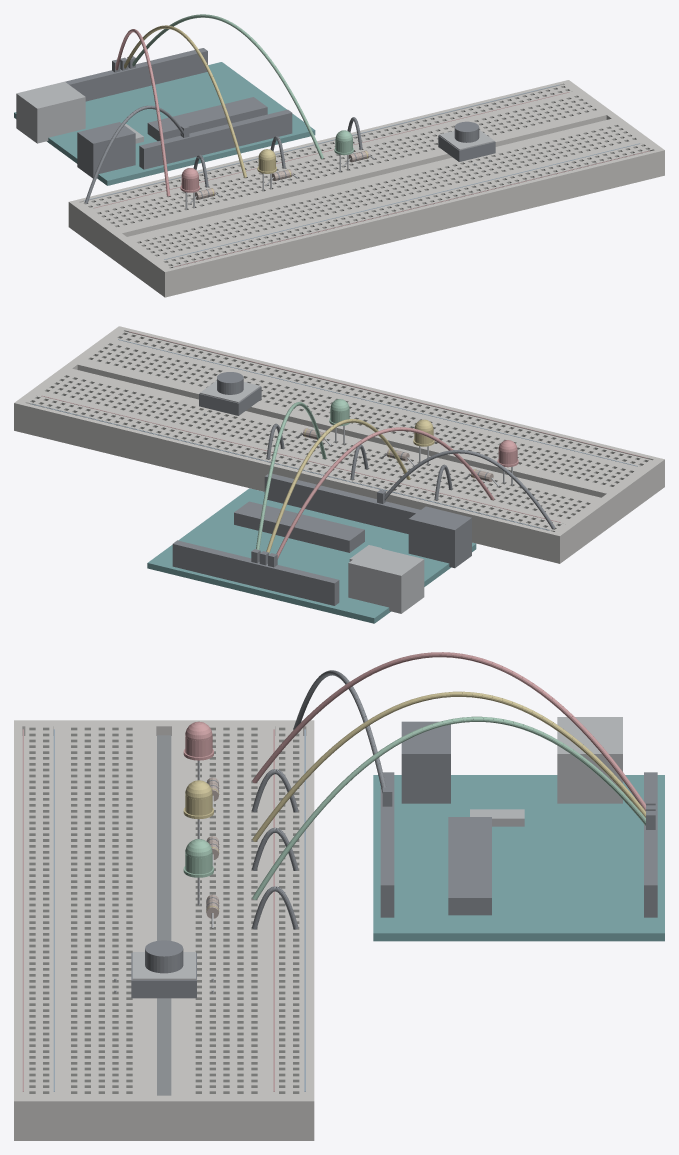
File: step-16.glb
3 renders of one model, top to bottom at view 1: azimuth 30°, elevation 25°; view 2: azimuth 150°, elevation 25°; view 3: azimuth 270°, elevation 25°, orthographic. The views are drawn at different scales.
Parts seen in each view (by area): view 1: breadboard__mesh, uno__mesh, button__mesh, wire_green_signal__mesh, wire_yellow_signal__mesh, wire_red_signal__mesh, wire_ground__mesh, led_red__mesh, led_green__mesh, led_yellow__mesh; view 2: breadboard__mesh, uno__mesh, button__mesh, wire_red_signal__mesh, wire_yellow_signal__mesh, wire_ground__mesh, wire_green_signal__mesh, led_red__mesh, led_green__mesh, led_yellow__mesh; view 3: breadboard__mesh, uno__mesh, button__mesh, wire_green_signal__mesh, wire_red_signal__mesh, wire_yellow_signal__mesh, wire_ground__mesh, led_green__mesh, led_yellow__mesh, led_red__mesh.
Boxes of the visible parts, bbox=[...] form: breadboard__mesh: bbox=[68, 80, 664, 297]; uno__mesh: bbox=[14, 48, 315, 185]; button__mesh: bbox=[438, 121, 495, 165]; wire_green_signal__mesh: bbox=[127, 14, 323, 158]; wire_yellow_signal__mesh: bbox=[120, 25, 246, 177]; wire_red_signal__mesh: bbox=[112, 29, 170, 196]; wire_ground__mesh: bbox=[84, 105, 189, 203]; led_red__mesh: bbox=[180, 168, 199, 209]; led_green__mesh: bbox=[334, 130, 353, 171]; led_yellow__mesh: bbox=[257, 149, 276, 190]; breadboard__mesh: bbox=[14, 326, 664, 563]; uno__mesh: bbox=[147, 473, 476, 623]; button__mesh: bbox=[199, 372, 261, 419]; wire_red_signal__mesh: bbox=[268, 427, 494, 567]; wire_yellow_signal__mesh: bbox=[259, 419, 410, 565]; wire_ground__mesh: bbox=[377, 450, 555, 529]; wire_green_signal__mesh: bbox=[251, 402, 326, 563]; led_red__mesh: bbox=[497, 440, 518, 485]; led_green__mesh: bbox=[329, 399, 350, 444]; led_yellow__mesh: bbox=[413, 419, 434, 464]; breadboard__mesh: bbox=[14, 720, 314, 1140]; uno__mesh: bbox=[373, 717, 664, 941]; button__mesh: bbox=[114, 940, 213, 998]; wire_green_signal__mesh: bbox=[252, 716, 655, 900]; wire_red_signal__mesh: bbox=[252, 652, 655, 811]; wire_yellow_signal__mesh: bbox=[252, 691, 655, 841]; wire_ground__mesh: bbox=[293, 670, 392, 806]; led_green__mesh: bbox=[183, 839, 213, 905]; led_yellow__mesh: bbox=[183, 780, 213, 838]; led_red__mesh: bbox=[183, 721, 213, 780].
Size of the model in its own units: 0.165 by 0.0398 by 0.1192.
